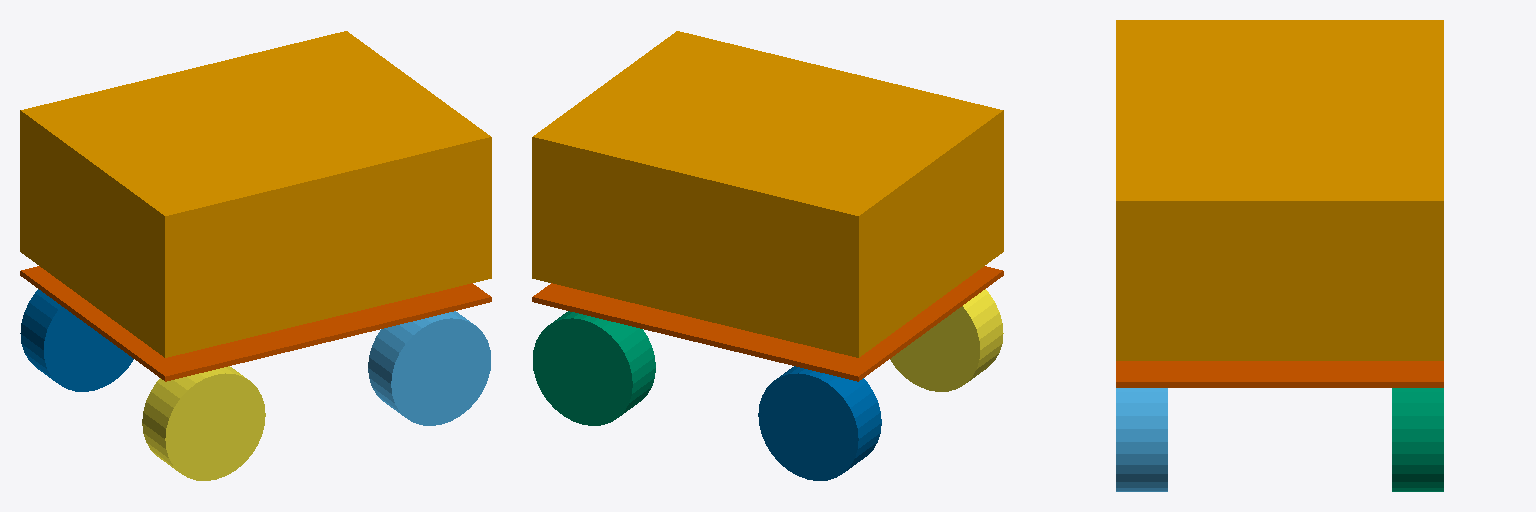
URDF robot description (rafi):
<robot name="rafi">





    <link name="Chasis" >

        <visual>

            <geometry>

                <box size="0.65 0.5 0.27"/>

            </geometry>    

        </visual> 
        <collision>

            <geometry>

                <box size="0.65 0.5 0.27"/>

            </geometry>

        </collision>
        <inertial>

            <mass value="1.0"/>
            <origin xyz="0 0 0"/>
            <inertia ixx="0.1" ixy="0.0" ixz="0.0" iyy="0.1" iyz="0.0" izz="0.1"/>

        </inertial> 
        <origin xyz="0 0 0.375" rpy="0 0 0"/>  

    </link>    
    <link name="Rueda1" > 

    <visual>

        <geometry>

            <cylinder radius="0.1" length="0.08"/>

        </geometry>
        <origin xyz="0 0 0" rpy="1.57075 0 0" />

    </visual>
    <collision>

        <geometry>

            <cylinder radius="0.1" length="0.08"/>

        </geometry>
        <origin xyz="0 0 0" rpy="1.57075 0 0" />


    </collision>
    <inertial>

        <mass value="0.1"/>
        <origin xyz="0 0 0"/>
        <inertia ixx="0.01" ixy="0.0" ixz="0.0" iyy="0.01" iyz="0.0" izz="0.01"/>
    
    </inertial>
    

    </link>   
    <link name="Rueda2" >

    <visual>

        <geometry>

            <cylinder radius="0.1" length="0.08"/>

        </geometry>
        <origin xyz="0 0 0" rpy="1.57075 0 0" />

    </visual>
    <collision>

        <geometry>

            <cylinder radius="0.1" length="0.08"/>

        </geometry>
        <origin xyz="0 0 0" rpy="1.57075 0 0" />


    </collision>
    <inertial>

        <mass value="0.1"/>
        <origin xyz="0 0 0"/>
        <inertia ixx="0.01" ixy="0.0" ixz="0.0" iyy="0.01" iyz="0.0" izz="0.01"/>
    
    </inertial>
    

    </link>
    <link name="Rueda3" > 

    <visual>

        <geometry>

            <cylinder radius="0.1" length="0.08"/>

        </geometry>
        <origin xyz="0 0 0" rpy="1.57075 0 0" />

    </visual>
    <collision>

        <geometry>

            <cylinder radius="0.1" length="0.08"/>

        </geometry>
        <origin xyz="0 0 0" rpy="1.57075 0 0" />


    </collision>
    <inertial>

        <mass value="0.1"/>
        <origin xyz="0 0 0"/>
        <inertia ixx="0.01" ixy="0.0" ixz="0.0" iyy="0.01" iyz="0.0" izz="0.01"/>
    
    </inertial>
   

    </link>
    <link name="Rueda4" >

    <visual>

        <geometry>

            <cylinder radius="0.1" length="0.08"/>

        </geometry>
        <origin xyz="0 0 0" rpy="1.57075 0 0" />

    </visual>
    <collision>

        <geometry>

            <cylinder radius="0.1" length="0.08"/>

        </geometry>
        <origin xyz="0 0 0" rpy="1.57075 0 0" />


    </collision>
    <inertial>

        <mass value="0.1"/>
        <origin xyz="0 0 0"/>
        <inertia ixx="0.01" ixy="0.0" ixz="0.0" iyy="0.01" iyz="0.0" izz="0.01"/>
    
    </inertial>
   

    </link>

    <link name="plancha" >

        <visual>

            <geometry>

                <box size="0.65 0.5 0.01"/>

            </geometry>    

        </visual> 
        <collision>

            <geometry>

                <box size="0.65 0.5 0.01"/>

            </geometry>

        </collision>
        <inertial>

            <mass value="1.0"/>
            <origin xyz="0 0 0"/>
            <inertia ixx="0.1" ixy="0.0" ixz="0.0" iyy="0.1" iyz="0.0" izz="0.1"/>

        </inertial>   

    </link>   
    
    <joint name="Rueda1Chasis" type="continuous">
        <parent link="Chasis" />
        <child link="Rueda1" />
        <origin xyz="0.225 -0.21 -0.29" rpy="0 0 0" />
        <axis xyz="0 1 0"/>
    </joint>

    <joint name="Rueda2Chasis" type="continuous">
        <parent link="Chasis" />
        <child link="Rueda2" />
        <origin xyz="0.225 0.21 -0.29" rpy="0 0 0" />
        <axis xyz="0 1 0"/>
    </joint>

    <joint name="Rueda3Chasis" type="continuous">
        <parent link="Chasis" />
        <child link="Rueda3" />
        <origin xyz="-0.225 -0.21 -0.29" rpy="0 0 0" />
        <axis xyz="0 1 0"/>
    </joint>

    <joint name="Rueda4Chasis" type="continuous">
        <parent link="Chasis" />
        <child link="Rueda4" />
        <origin xyz="-0.225 0.21 -0.29" rpy="0 0 0" />
        <axis xyz="0 1 0"/>
    </joint>

    <joint name="Plancha2base" type="fixed">

        <parent link="Chasis" />
        <child link="plancha" />
        <origin xyz="0 0 -0.175" rpy="0 0 0"/>

    </joint>

    <!--<gazebo>
        <plugin name="gazebo_ros_control" filename="libgazebo_ros_control.so">
          <controlPeriod>0.001</controlPeriod>
        </plugin>
        <self_collide>true</self_collide>
    </gazebo>-->
    
    <gazebo>
        <plugin name="force_based_move" filename="libgazebo_ros_force_based_move.so">
          
          <robotBaseFrame>Chasis</robotBaseFrame>
          <commandTopic>cmd_vel</commandTopic>
          <odometryTopic>odom</odometryTopic>
          <odometryFrame></odometryFrame>
          <odometryRate>20.0</odometryRate>
          <publishOdometryTf>false</publishOdometryTf>
          <yaw_velocity_p_gain>10</yaw_velocity_p_gain>
          <x_velocity_p_gain>10</x_velocity_p_gain>
          <y_velocity_p_gain>10</y_velocity_p_gain>
        </plugin>
      </gazebo>

<!--<gazebo>
    <plugin name="object_controller" filename="libgazebo_ros_planar_move.so">
      <commandTopic>cmd_vel</commandTopic>
      <odometryTopic>odom</odometryTopic>
      <odometryFrame>odom</odometryFrame>
      <odometryRate>20.0</odometryRate>
      <robotBaseFrame>Chasis</robotBaseFrame>
    </plugin>
  </gazebo>-->

  

</robot>

--- Render facts (derived) ---
The picture shows the robot from 3 angles, left to right: view 1: azimuth 30°, elevation 25°; view 2: azimuth 150°, elevation 25°; view 3: azimuth 270°, elevation 25°; orthographic projection.
Robot: rafi — 6 links, 5 joints (4 continuous, 1 fixed); root link Chasis; default pose: all joints at 0.
Visible links, largest first — view 1: Chasis, plancha, Rueda3, Rueda1, Rueda4; view 2: Chasis, plancha, Rueda4, Rueda2, Rueda3; view 3: Chasis, plancha, Rueda1, Rueda2.
Link boxes in pixels (bbox=[...]): Chasis: bbox=[20, 31, 491, 357]; plancha: bbox=[20, 266, 491, 381]; Rueda3: bbox=[142, 366, 265, 480]; Rueda1: bbox=[368, 311, 490, 425]; Rueda4: bbox=[20, 289, 133, 391]; Chasis: bbox=[532, 31, 1003, 357]; plancha: bbox=[532, 266, 1003, 381]; Rueda4: bbox=[758, 366, 881, 480]; Rueda2: bbox=[533, 311, 655, 425]; Rueda3: bbox=[890, 289, 1003, 391]; Chasis: bbox=[1116, 20, 1443, 360]; plancha: bbox=[1116, 361, 1443, 387]; Rueda1: bbox=[1116, 388, 1167, 491]; Rueda2: bbox=[1392, 388, 1443, 491].
Bounding box of the posed robot: 0.65 × 0.5 × 0.525 m (x, y, z).
Geometry: primitives only (box / cylinder / sphere), no mesh files.
